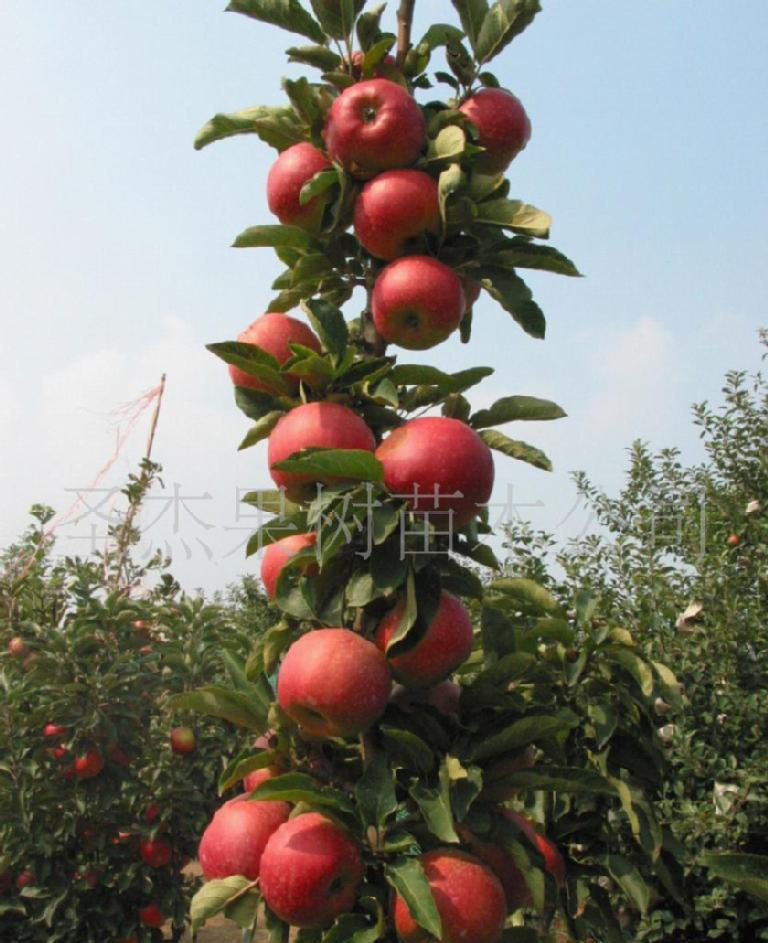apple: (375, 416, 494, 531), (274, 627, 389, 741), (262, 810, 366, 928), (265, 400, 375, 505), (389, 847, 509, 942), (323, 79, 425, 177), (370, 256, 465, 350), (379, 588, 472, 684), (352, 168, 444, 260), (199, 792, 291, 880), (228, 312, 321, 396), (452, 87, 529, 178), (264, 144, 329, 230)
